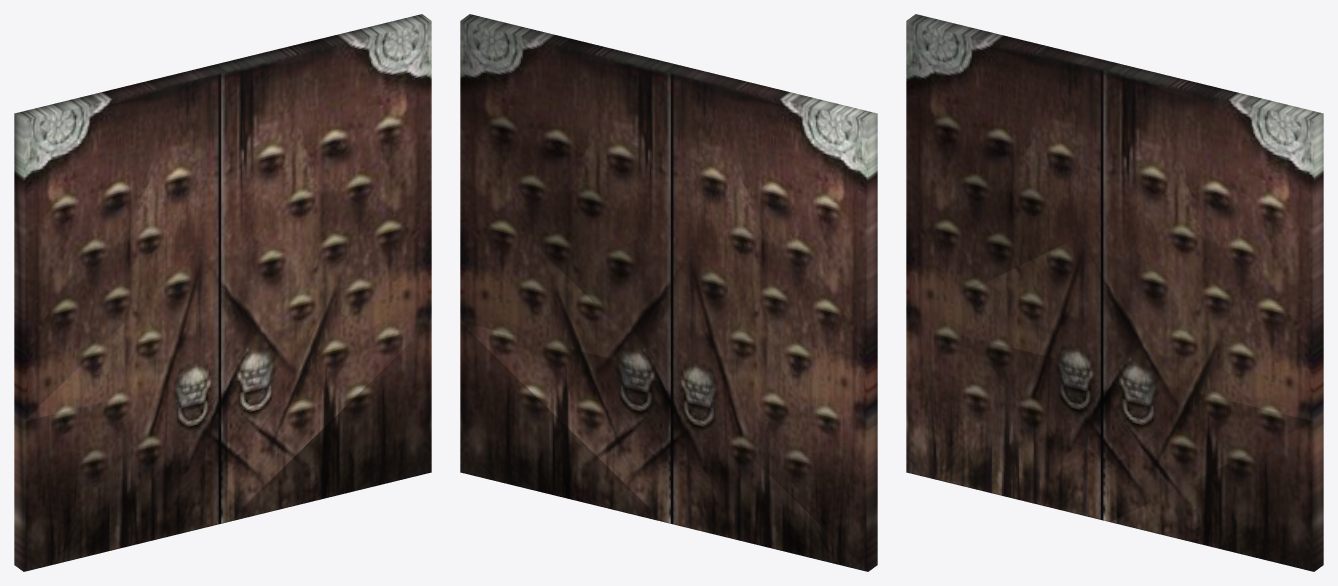
The picture shows the model from 3 angles, left to right: view 1: azimuth 30°, elevation 25°; view 2: azimuth 150°, elevation 25°; view 3: azimuth 330°, elevation 25°; orthographic projection.
Parts seen in each view (by area): view 1: Pdoor03; view 2: Pdoor03; view 3: Pdoor03.
Part boxes in pixels (x1,y1,x2,y2): Pdoor03: [14, 14, 431, 571]; Pdoor03: [460, 14, 877, 571]; Pdoor03: [906, 14, 1323, 571].
Size of the model in its own units: 102 by 108 by 4.17.
Materials: 1 (1 with a texture image).
